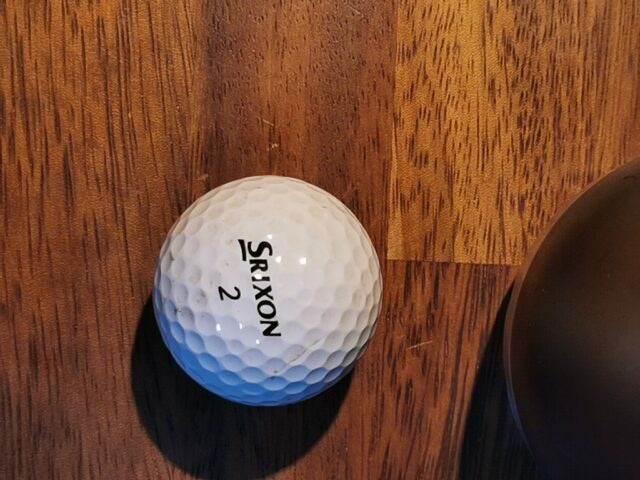Ball: (152, 175, 384, 407)
Srixon: (238, 238, 282, 337)
